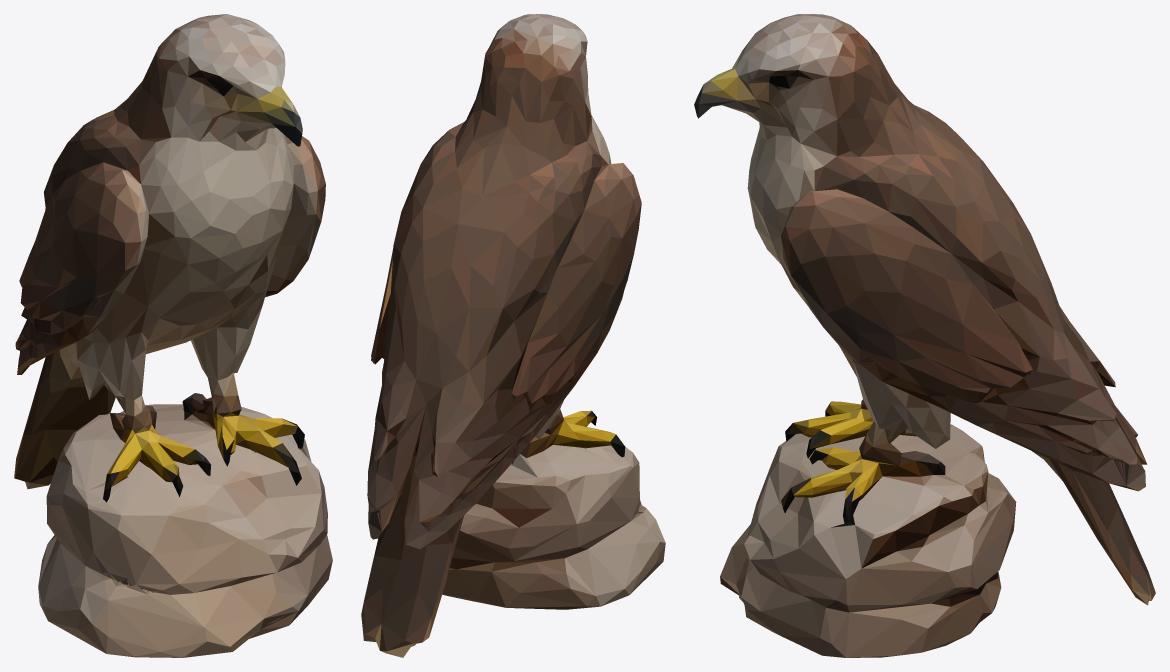
File: falcon_8k.glb
3 views of the same model, side by side, from view 1: azimuth 30°, elevation 25°; view 2: azimuth 150°, elevation 25°; view 3: azimuth 270°, elevation 25° (orthographic). The views are drawn at different scales.
Parts seen in each view (by area): view 1: Nouf; view 2: Nouf; view 3: Nouf.
Part boxes in pixels (left/top/right/bottom): Nouf: left=14, top=14, right=332, bottom=657; Nouf: left=361, top=14, right=665, bottom=657; Nouf: left=694, top=14, right=1155, bottom=657.
Bounding box in the file's own units: 0.205 × 0.4407 × 0.3159.
